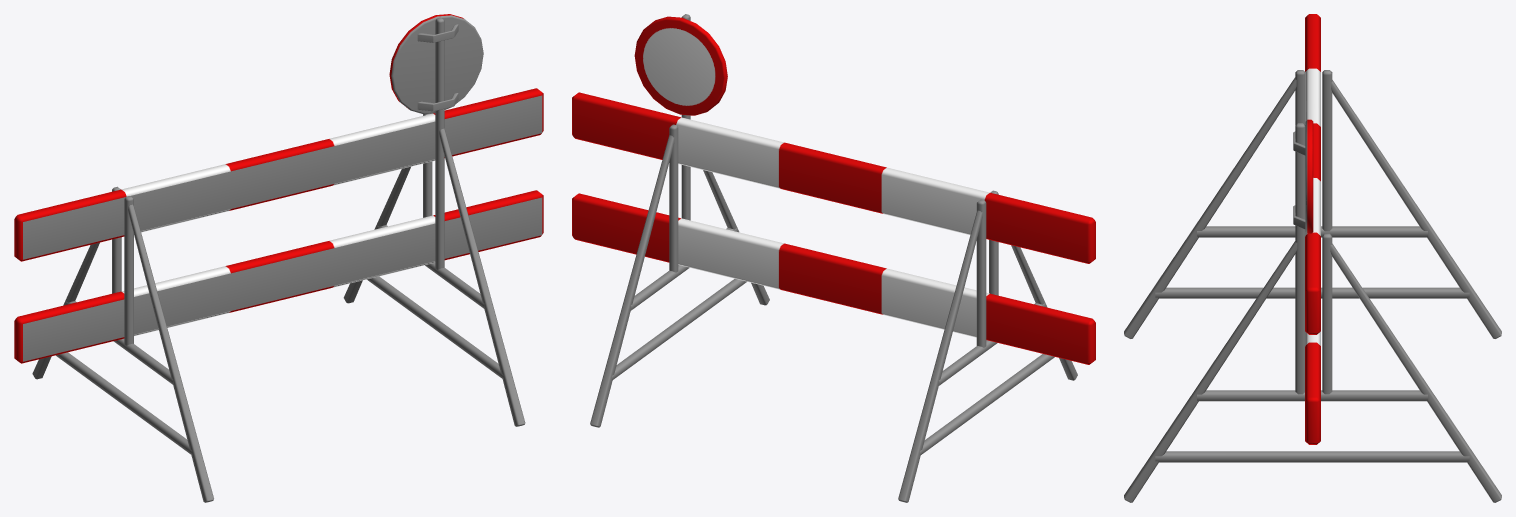
The model's file is weg afsluiting.fbx.
3 renders of one model, left to right at view 1: azimuth 30°, elevation 25°; view 2: azimuth 150°, elevation 25°; view 3: azimuth 270°, elevation 25°, orthographic. The views are drawn at different scales.
Parts seen in each view (by area): view 1: bord, stand; view 2: bord, stand; view 3: stand, bord.
Boxes of the visible parts, x1,y1,x2,y2 form: bord: [14, 88, 543, 363]; stand: [32, 14, 525, 502]; bord: [572, 92, 1095, 364]; stand: [590, 14, 1077, 502]; stand: [1124, 70, 1501, 502]; bord: [1305, 14, 1320, 444].
Bounding box in the file's own units: 2.25 × 1.43 × 1.3.
